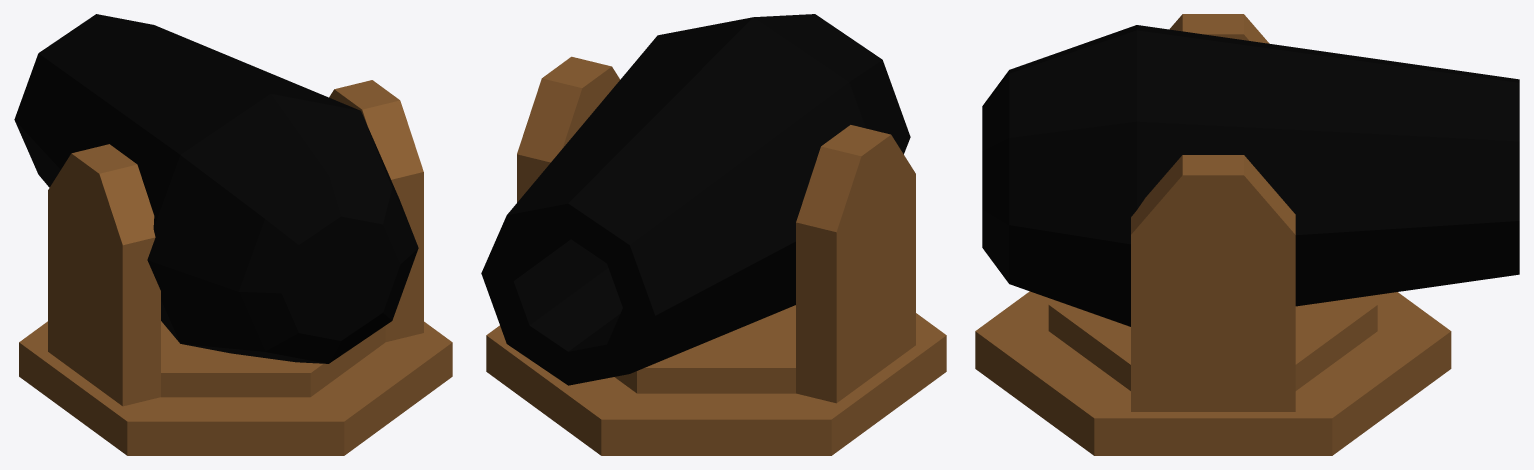
The model's file is CannonModel.fbx.
3 views of the same model, side by side, from view 1: azimuth 30°, elevation 25°; view 2: azimuth 150°, elevation 25°; view 3: azimuth 270°, elevation 25° (orthographic). The views are drawn at different scales.
Visible parts, largest first — view 1: Cannon, Cannon Holder; view 2: Cannon, Cannon Holder; view 3: Cannon, Cannon Holder.
Part boxes in pixels (bbox=[...]): Cannon: bbox=[14, 14, 418, 363]; Cannon Holder: bbox=[19, 80, 452, 455]; Cannon: bbox=[481, 14, 910, 385]; Cannon Holder: bbox=[486, 56, 946, 455]; Cannon: bbox=[982, 25, 1519, 326]; Cannon Holder: bbox=[975, 14, 1451, 455].
Size of the model in its own units: 4.36 by 3.95 by 5.76.
